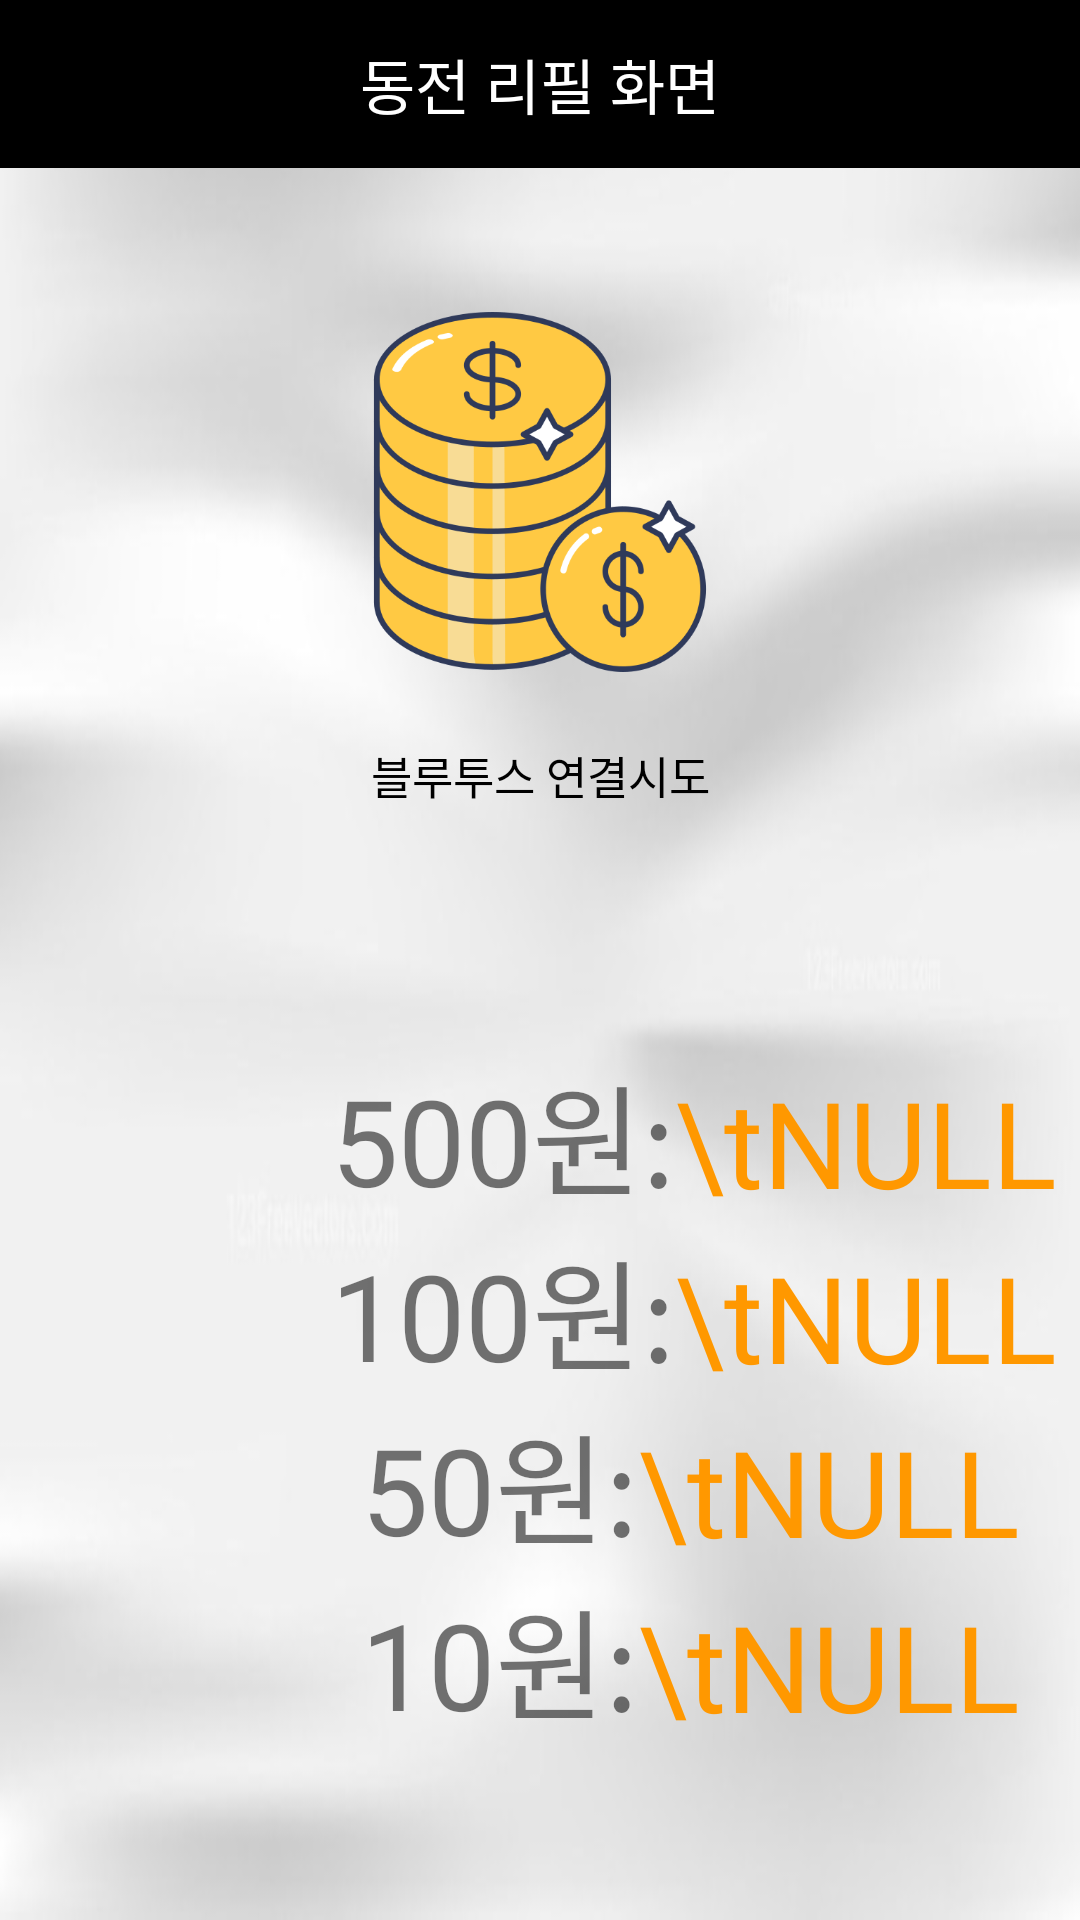

Icons on this 1080px×1920px Android screen, each with the point to tap as [x,y]:
coin: [540,492]
